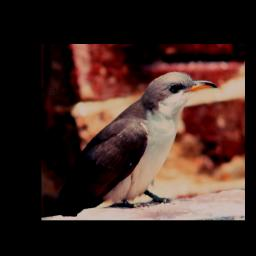Cuckoo: (46, 71, 218, 218)
